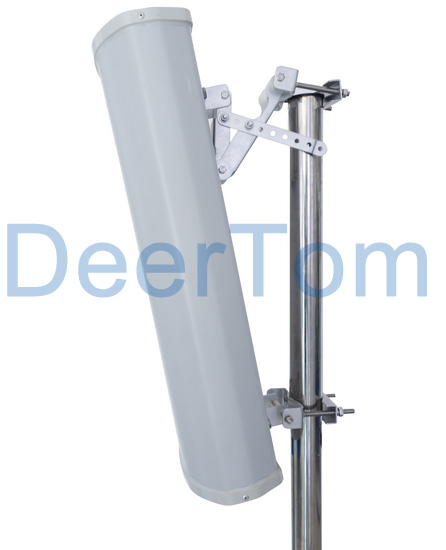sa: (68, 9, 361, 536)
